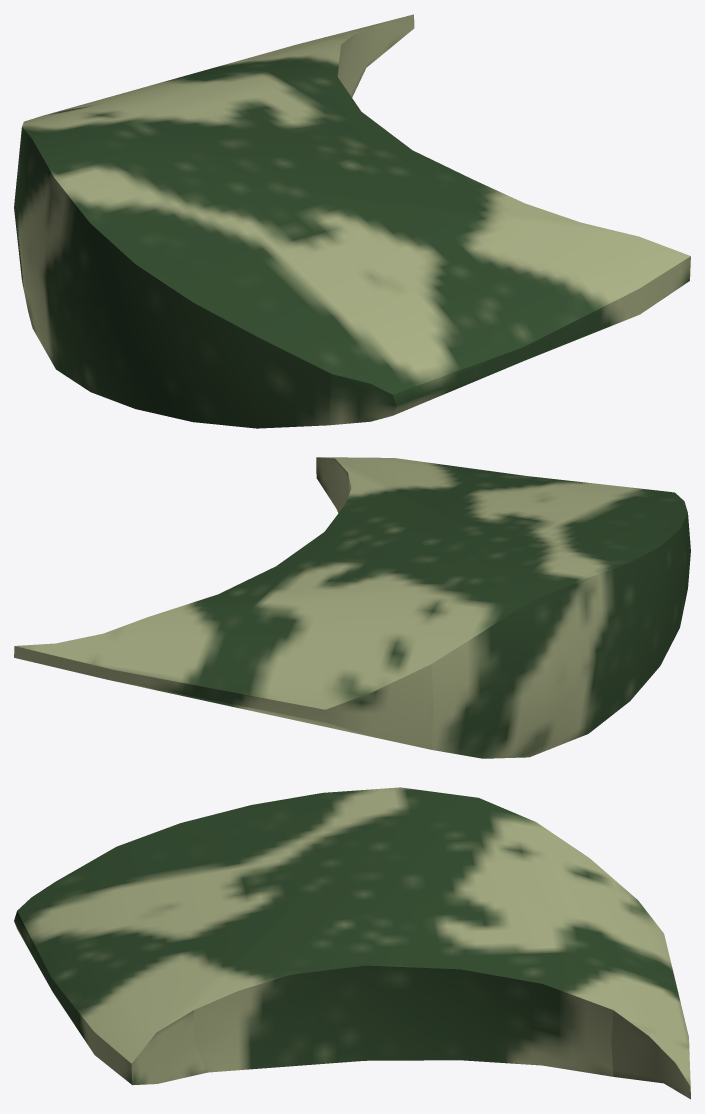
File: link_body_36_composite.obj
3 views of the same model, one above another, from view 1: azimuth 30°, elevation 25°; view 2: azimuth 150°, elevation 25°; view 3: azimuth 270°, elevation 25° (orthographic). The views are drawn at different scales.
Visible parts, largest first — view 1: link_body_36; view 2: link_body_36; view 3: link_body_36.
Boxes of the visible parts, box(x1,y1,x2,y2) form: link_body_36: box(14, 14, 690, 428); link_body_36: box(14, 457, 690, 758); link_body_36: box(14, 787, 690, 1099).
Size of the model in its own units: 7.52 by 2.51 by 9.34.
1 material, 1 textured.
